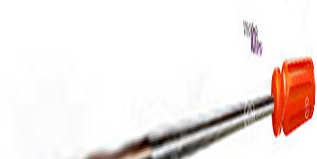screwdriver: (76, 54, 317, 159)
